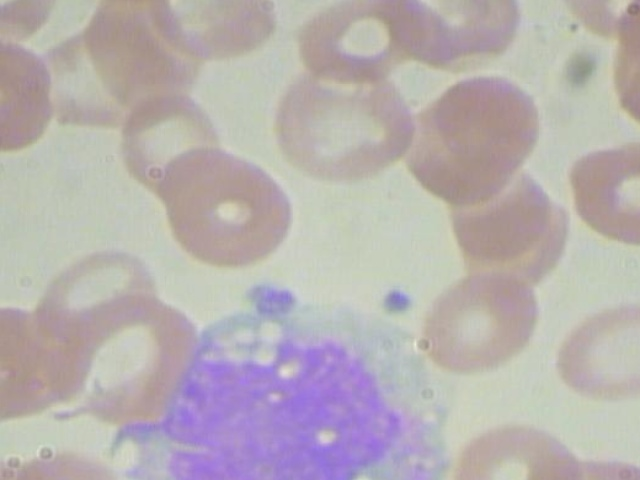RBC: (258, 54, 424, 185), (161, 148, 300, 274), (26, 228, 168, 350), (413, 261, 552, 375), (426, 68, 553, 188), (543, 291, 640, 409), (565, 133, 640, 252), (449, 416, 580, 480)
WBC: (107, 279, 458, 480)
